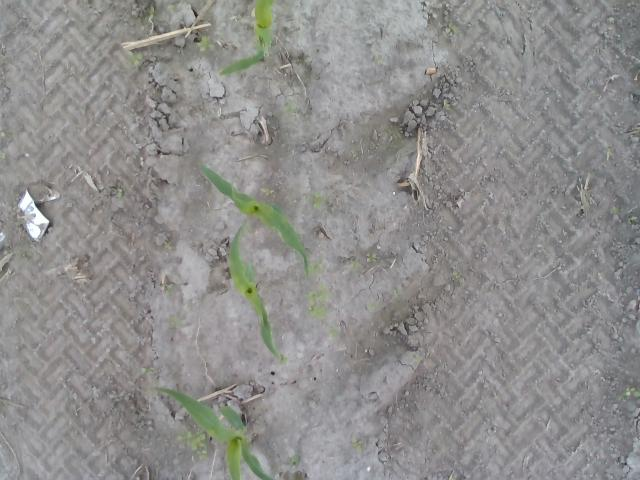Maize: (200, 163, 310, 277), (145, 385, 276, 480), (226, 214, 280, 359), (220, 0, 274, 74)
Weeds: (176, 428, 210, 462), (304, 282, 330, 320), (160, 282, 177, 296), (258, 185, 276, 198), (127, 50, 141, 66), (198, 36, 212, 51), (311, 192, 323, 208), (626, 386, 640, 398), (364, 252, 378, 264), (288, 454, 300, 466), (352, 438, 364, 450), (610, 207, 620, 216), (116, 192, 122, 197)
